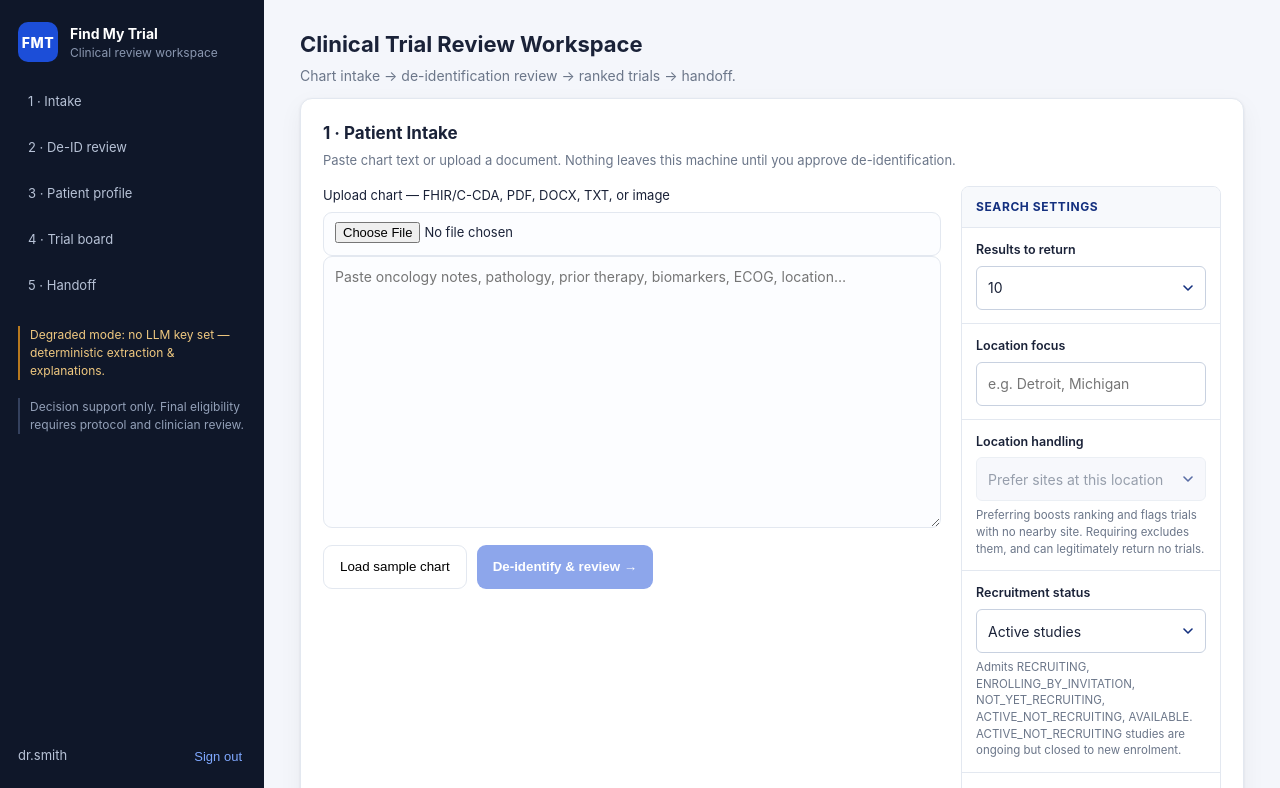
screen-reader announcements › announces errors with role=alert
Expected: the heading "Clinical Trial Review Workspace" is shown, [300, 31, 643, 57]
Replace the text in the text box named "chart text" with "chart": [632, 392] box [323, 256, 941, 528]
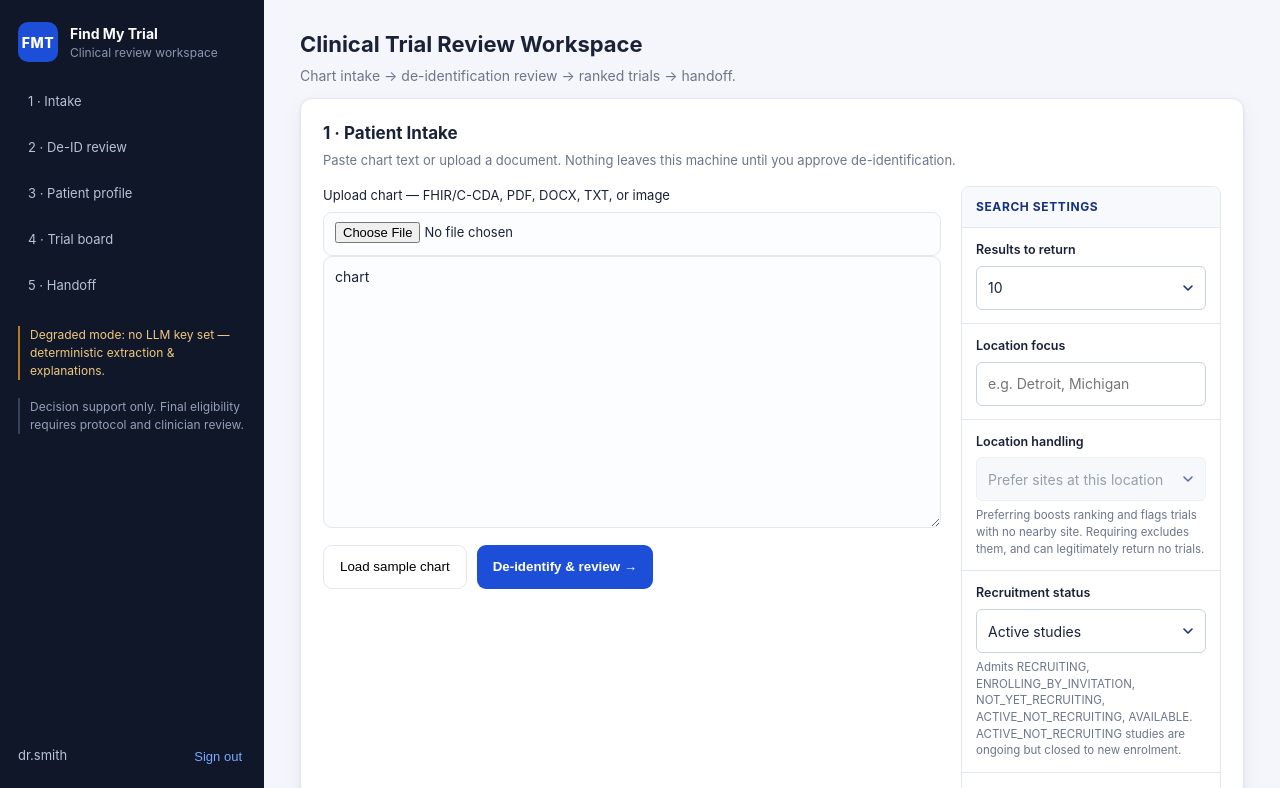
Click the button "De-identify & review →": [565, 566] box [477, 544, 653, 588]
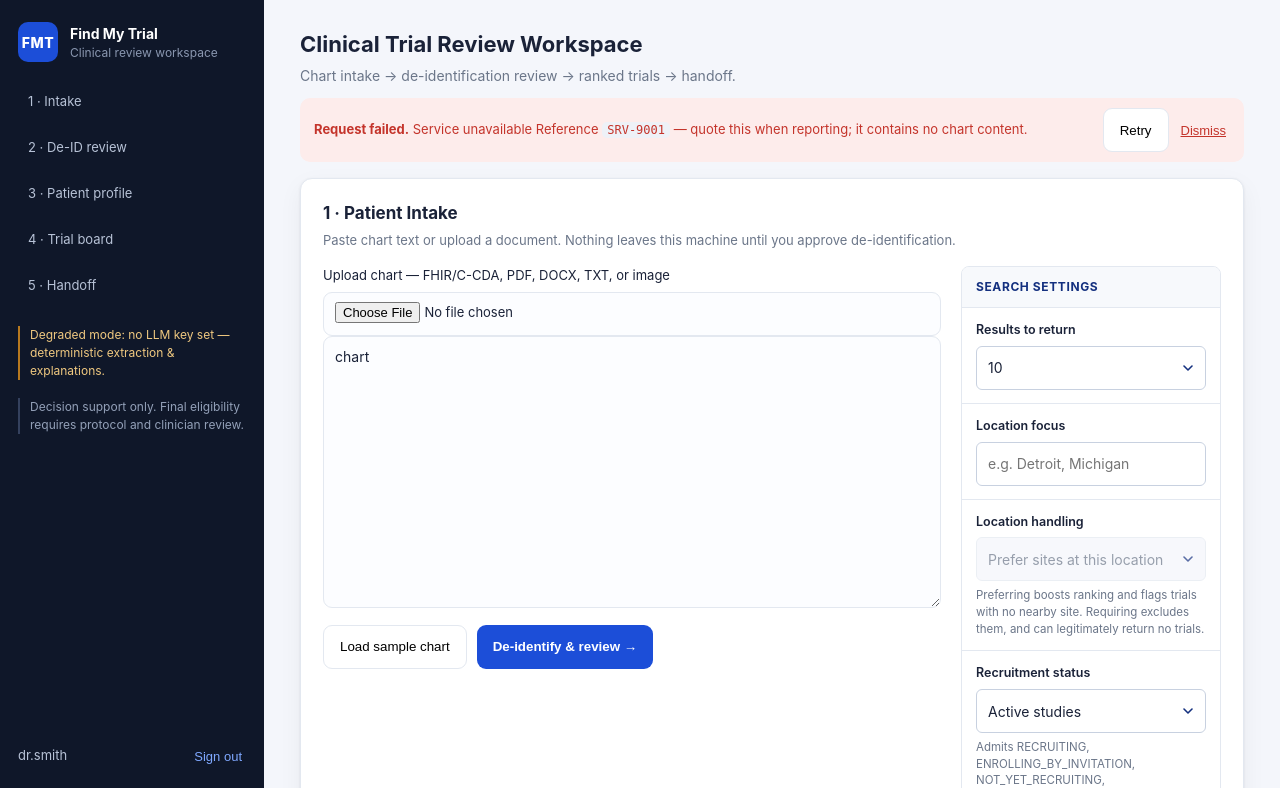
Now the message shows "Service unavailable", box [413, 121, 532, 137]
